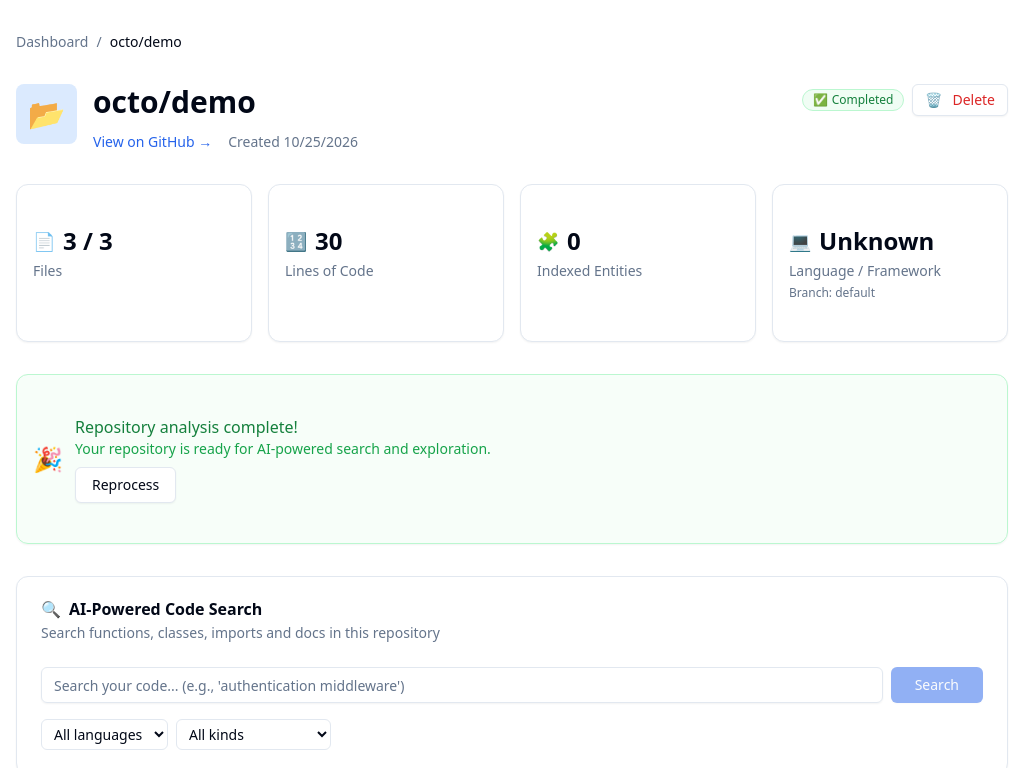
Test: RepositoryPage error states › navigates to the dashboard when delete returns 404
Click the button titled "Delete repository". click: (960, 100)
box: [912,84,1008,116]
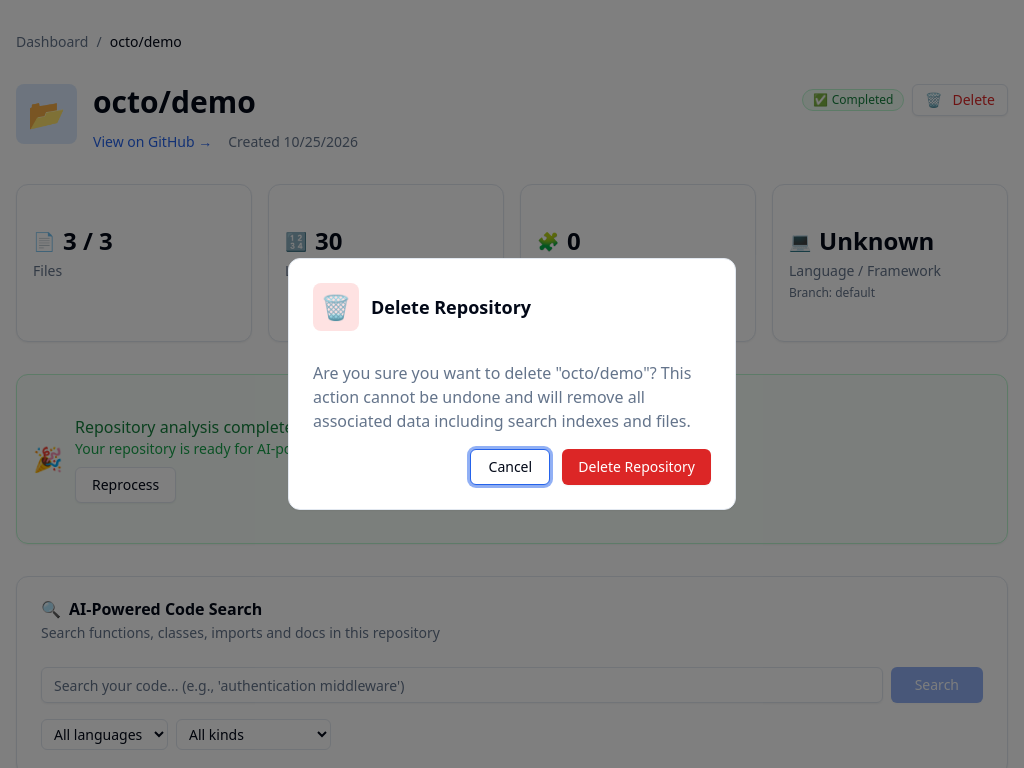
Click the button "Delete Repository". click: (637, 467)
box: [562,449,711,485]
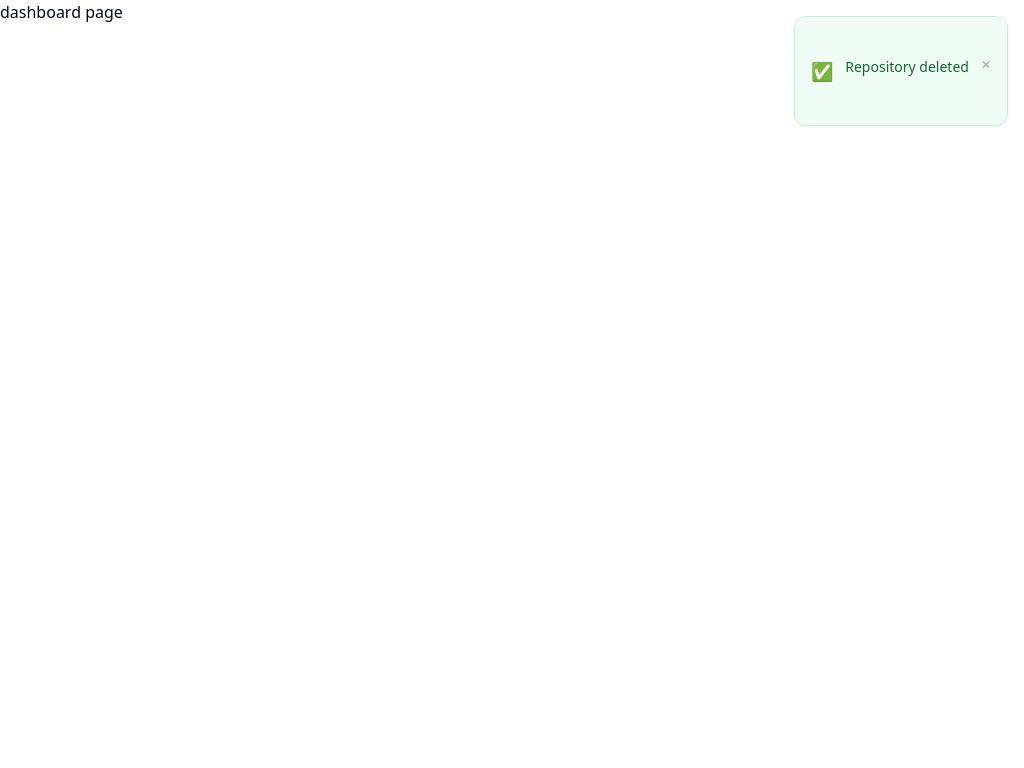
expect the text "dashboard page" is shown: met, box [0,1,123,23]
